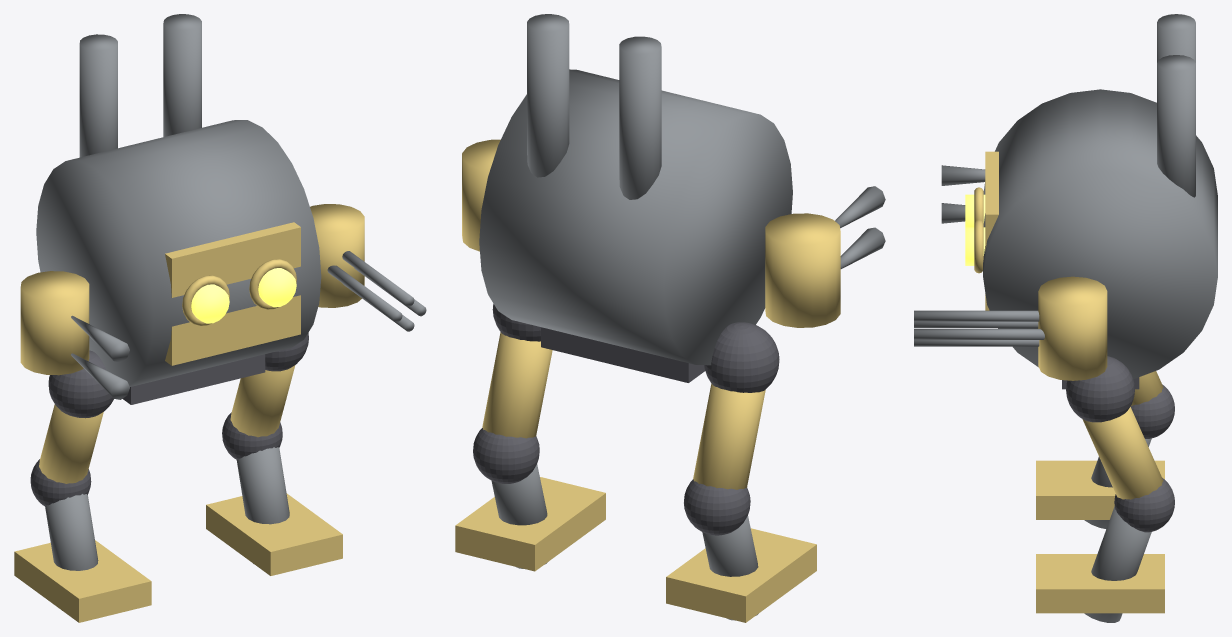
Rendered from enemy_diesel_walker.glb.
The picture shows the model from 3 angles, left to right: view 1: azimuth 30°, elevation 25°; view 2: azimuth 150°, elevation 25°; view 3: azimuth 270°, elevation 25°; orthographic projection. The views are drawn at different scales.
Visible parts, largest first — view 1: Cylinder, Cube, Cube.002, Cylinder.010, Cube.003, Cylinder.003, Cylinder.004, Cylinder.005, Cylinder.011, Cylinder.014, Cylinder.012, Cylinder.013 (+13 smaller); view 2: Cylinder, Cylinder.010, Cube.002, Cube.003, Cylinder.003, Cylinder.004, Cylinder.011, Cylinder.013, Sphere, Cube.001, Sphere.003, Sphere.001 (+6 smaller); view 3: Cylinder, Cylinder.005, Cube.003, Cylinder.004, Cube.002, Cylinder.013, Sphere.002, Cylinder.014, Sphere.003, Cylinder.003, Cylinder.007, Sphere.001 (+10 smaller).
Boxes of the visible parts, left/top/right/bottom form: Cylinder: left=36, top=120, right=321, bottom=386; Cube: left=165, top=222, right=300, bottom=365; Cube.002: left=14, top=540, right=151, bottom=622; Cylinder.010: left=20, top=271, right=89, bottom=375; Cube.003: left=206, top=493, right=342, bottom=575; Cylinder.003: left=79, top=34, right=117, bottom=157; Cylinder.004: left=163, top=14, right=201, bottom=136; Cylinder.005: left=310, top=204, right=364, bottom=307; Cylinder.011: left=39, top=404, right=103, bottom=483; Cylinder.014: left=236, top=447, right=289, bottom=563; Cylinder.012: left=45, top=494, right=98, bottom=570; Cylinder.013: left=230, top=365, right=295, bottom=437; Cylinder: left=479, top=69, right=792, bottom=365; Cylinder.010: left=765, top=213, right=840, bottom=327; Cube.002: left=666, top=528, right=816, bottom=622; Cube.003: left=455, top=477, right=605, bottom=571; Cylinder.003: left=619, top=36, right=661, bottom=199; Cylinder.004: left=527, top=14, right=569, bottom=177; Cylinder.011: left=693, top=383, right=765, bottom=489; Cylinder.013: left=482, top=332, right=552, bottom=438; Sphere: left=704, top=322, right=779, bottom=392; Cube.001: left=541, top=327, right=705, bottom=382; Sphere.003: left=473, top=428, right=539, bottom=483; Sphere.001: left=684, top=479, right=750, bottom=535; Cylinder: left=983, top=89, right=1217, bottom=379; Cylinder.005: left=1038, top=276, right=1107, bottom=380; Cube.003: left=1036, top=554, right=1164, bottom=613; Cylinder.004: left=1157, top=55, right=1195, bottom=197; Cube.002: left=1036, top=460, right=1164, bottom=519; Cylinder.013: left=1082, top=407, right=1163, bottom=499; Sphere.002: left=1066, top=356, right=1134, bottom=422; Cylinder.014: left=1084, top=506, right=1151, bottom=622; Sphere.003: left=1114, top=478, right=1174, bottom=532; Cylinder.003: left=1157, top=14, right=1195, bottom=62; Cylinder.007: left=914, top=310, right=1039, bottom=321; Sphere.001: left=1130, top=384, right=1174, bottom=438.
Bounding box in the file's own units: 2.8 × 4.22 × 2.2.
